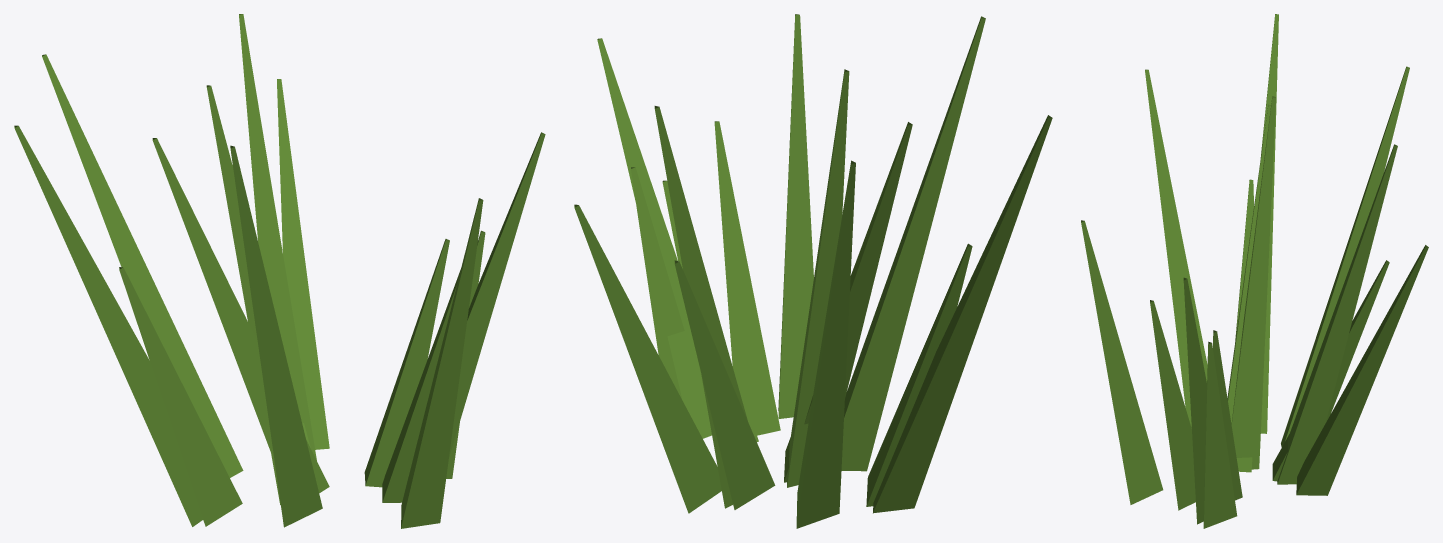
The model's file is UM_Grasbueschel.fbx.
3 renders of one model, left to right at view 1: azimuth 30°, elevation 25°; view 2: azimuth 150°, elevation 25°; view 3: azimuth 270°, elevation 25°, orthographic. The views are drawn at different scales.
Visible parts, largest first — view 1: UM_Grasbueschel; view 2: UM_Grasbueschel; view 3: UM_Grasbueschel.
Part boxes in pixels (x1,y1,x2,y2): UM_Grasbueschel: (14,14,545,528); UM_Grasbueschel: (574,14,1052,528); UM_Grasbueschel: (1081,14,1428,528).
Bounding box in the file's own units: 0.7287 × 0.6187 × 0.5445.
